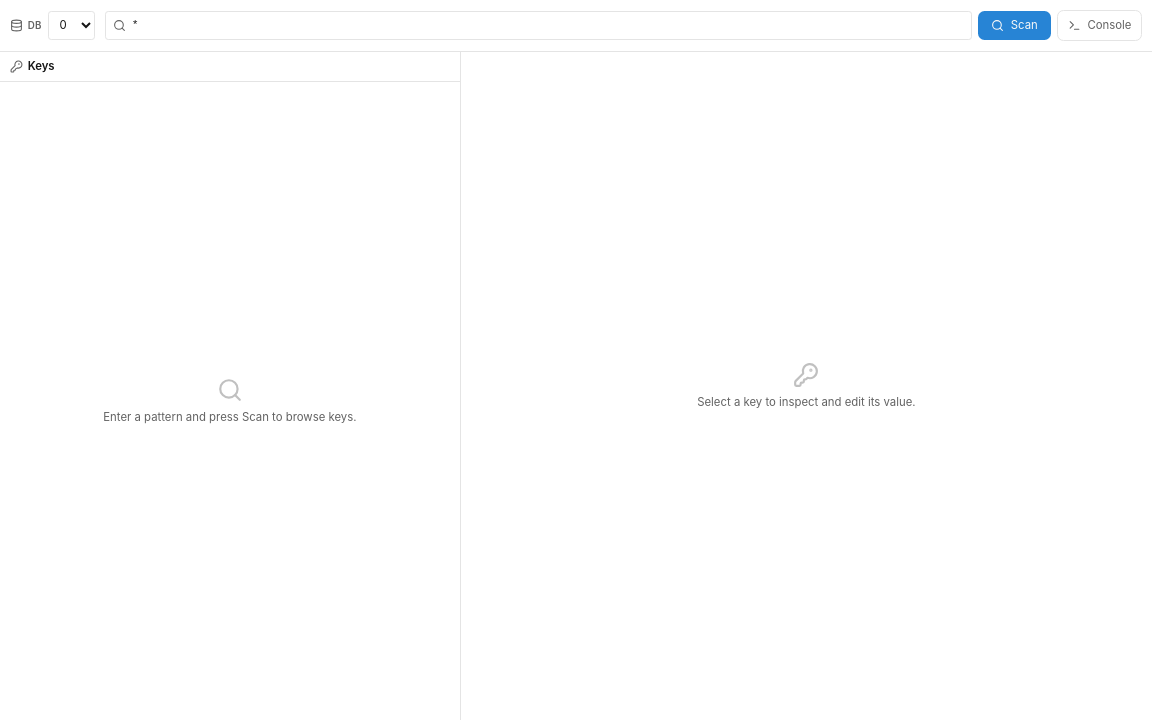
it: RedisKeyBrowser › shows an empty-state message when a scan returns no keys
What coordinates should you click on to do the following:
click the button "Scan"
I would click on:
 (1015, 25)
Its box is [978,11,1051,40].
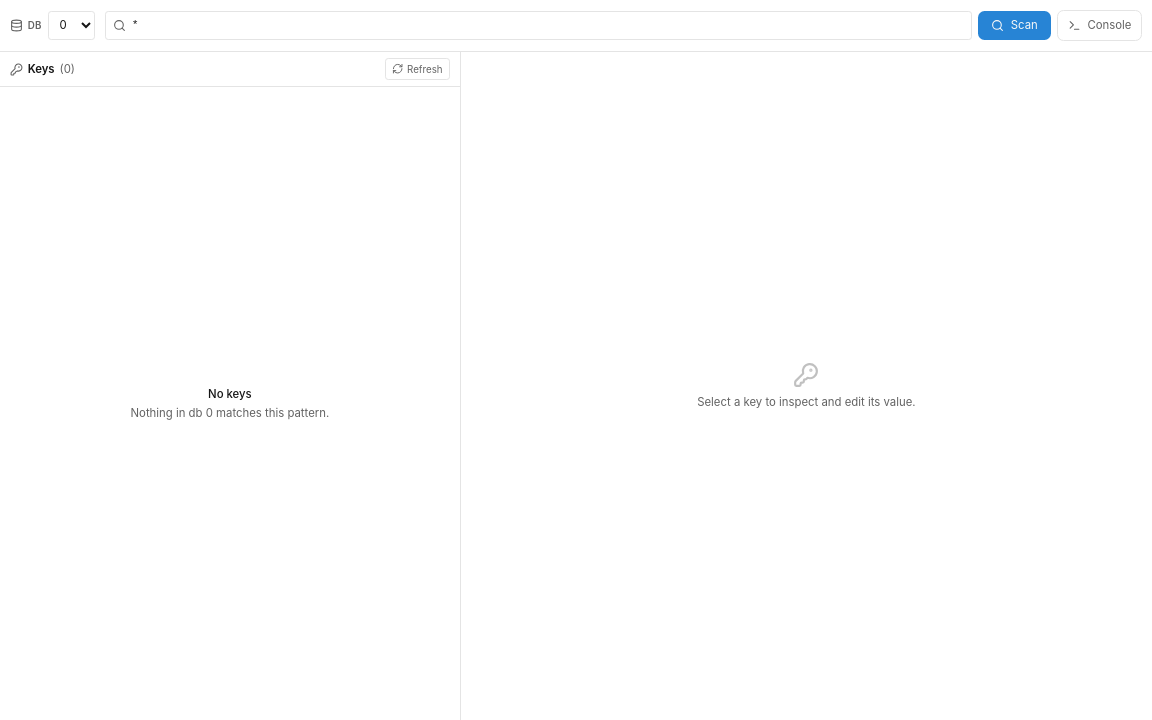
Expected: the text "No keys" is shown, [208,386,252,402]
